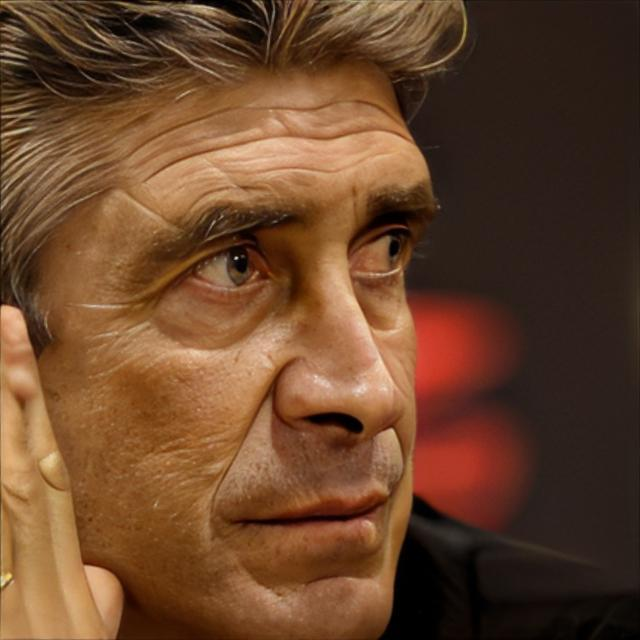content: (36, 57, 440, 640)
